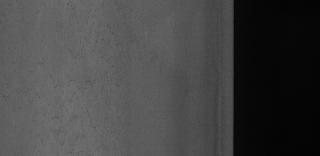silk spot: (60, 20, 144, 118)
